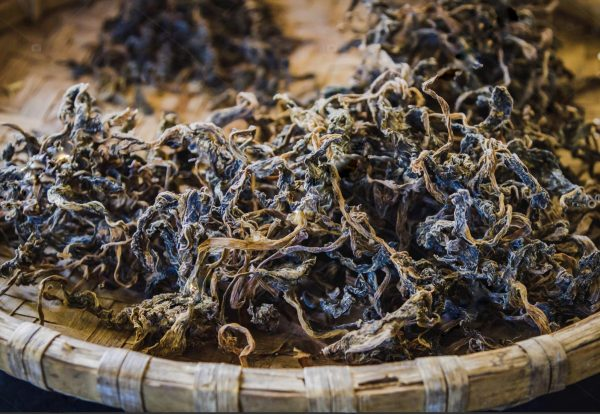gundruk: (17, 98, 564, 326)
